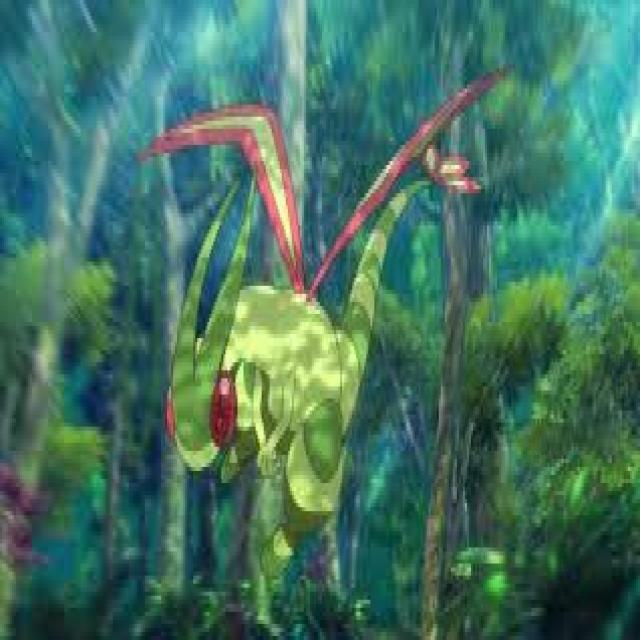flygon: (141, 77, 510, 589)
